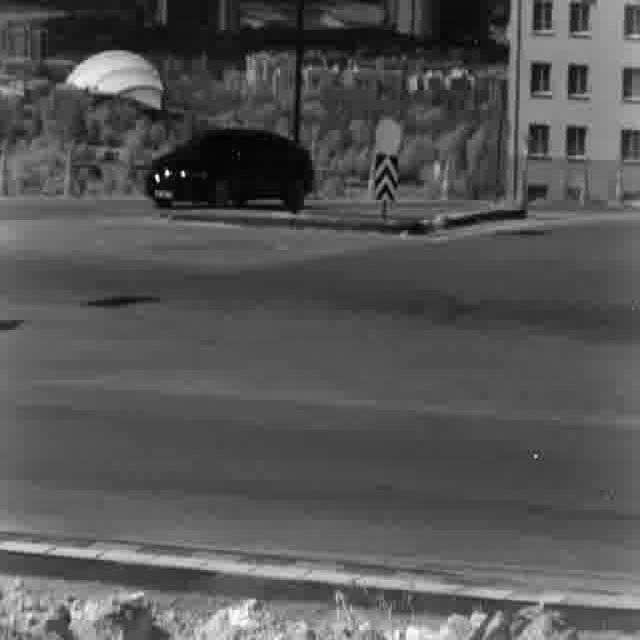Car: (147, 128, 314, 210)
